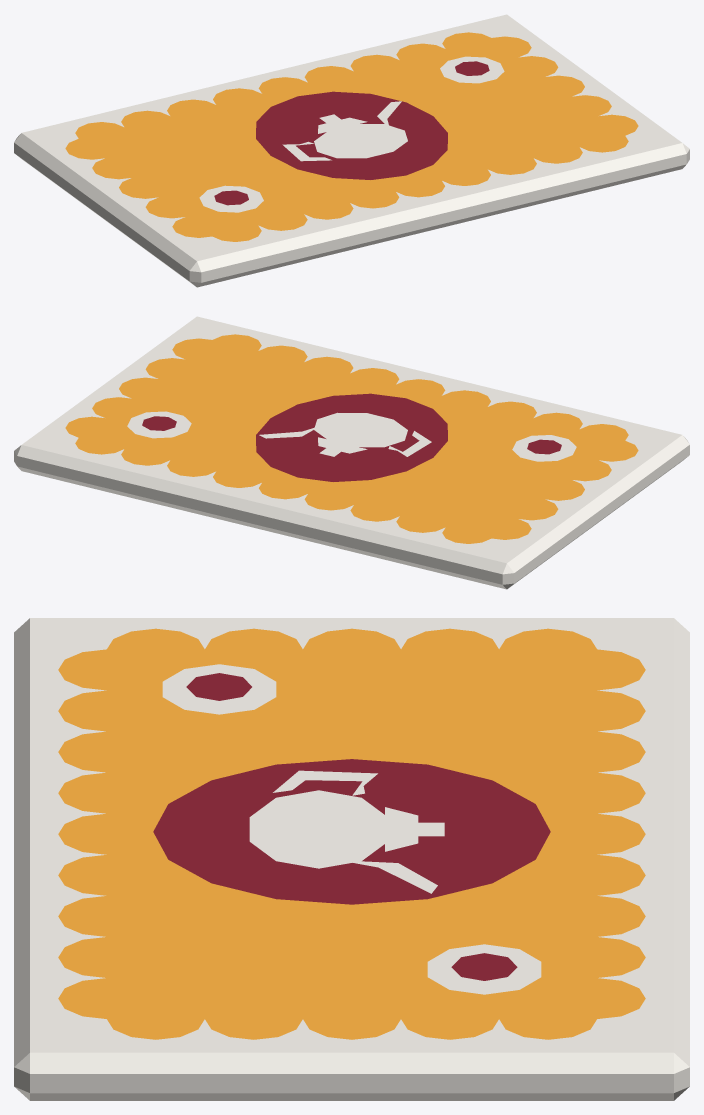
The model's file is banknote_saffron.glb.
3 views of the same model, one above another, from view 1: azimuth 30°, elevation 25°; view 2: azimuth 150°, elevation 25°; view 3: azimuth 270°, elevation 25° (orthographic). The views are drawn at different scales.
Visible parts, largest first — view 1: banknote_saffron; view 2: banknote_saffron; view 3: banknote_saffron.
Part boxes in pixels (x1,y1,x2,y2): banknote_saffron: (14, 14, 689, 287); banknote_saffron: (14, 316, 689, 589); banknote_saffron: (14, 618, 689, 1100).
Size of the model in its own units: 0.8 by 0.054 by 0.51.
Materials: 1 (1 with a texture image).
